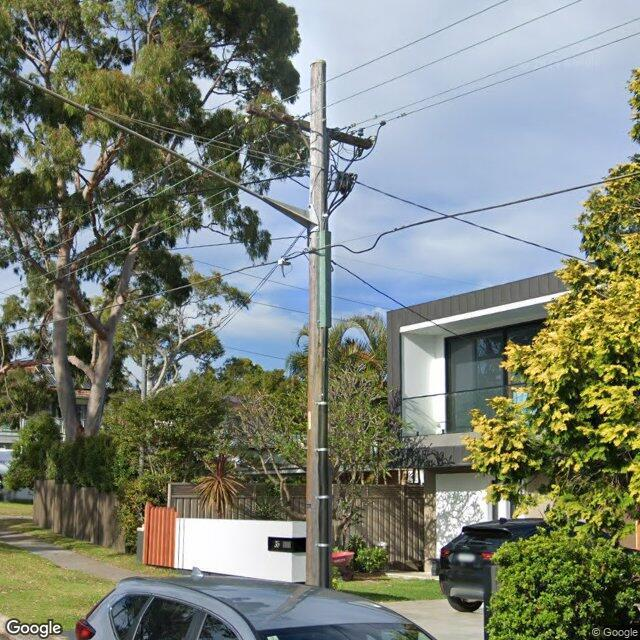crossarm: (246, 100, 374, 150)
streetlight: (0, 60, 319, 230)
timber-pole: (306, 60, 332, 589)
